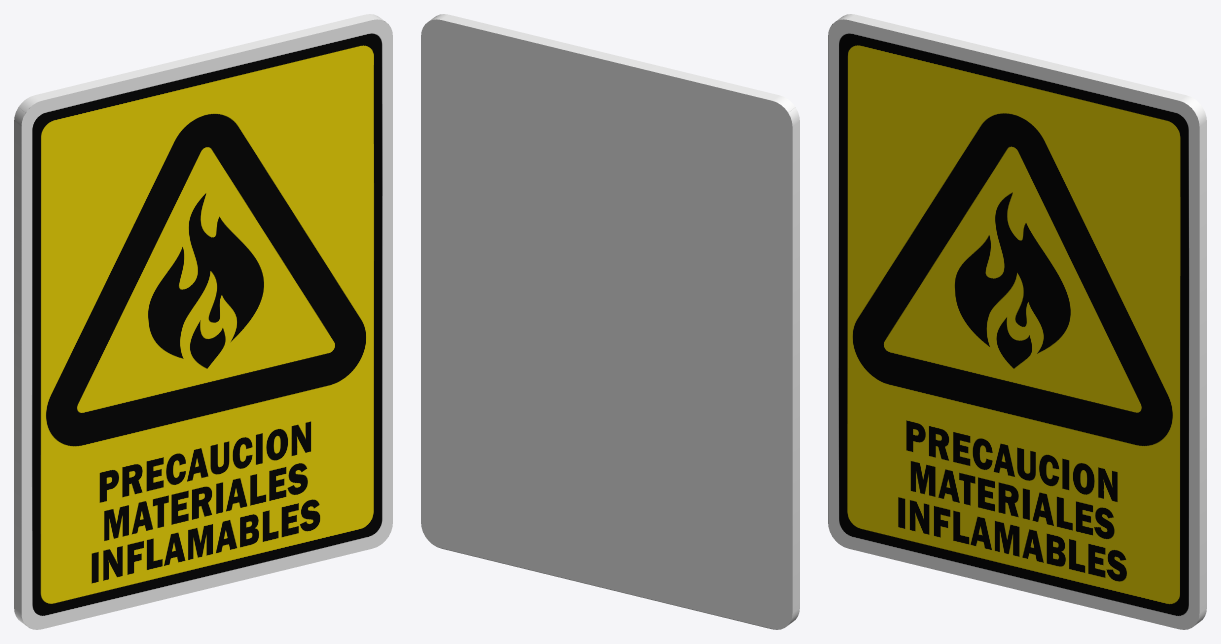
Rendered from señales8.fbx.
The picture shows the model from 3 angles, left to right: view 1: azimuth 30°, elevation 25°; view 2: azimuth 150°, elevation 25°; view 3: azimuth 330°, elevation 25°; orthographic projection.
Visible parts, largest first — view 1: materiales inflamables_0; view 2: materiales inflamables_0; view 3: materiales inflamables_0.
Boxes of the visible parts, <box> form: materiales inflamables_0: <box>14,14,392,629</box>; materiales inflamables_0: <box>421,14,799,629</box>; materiales inflamables_0: <box>828,14,1206,629</box>.
Bounding box in the file's own units: 14.71 × 20 × 0.5095.
